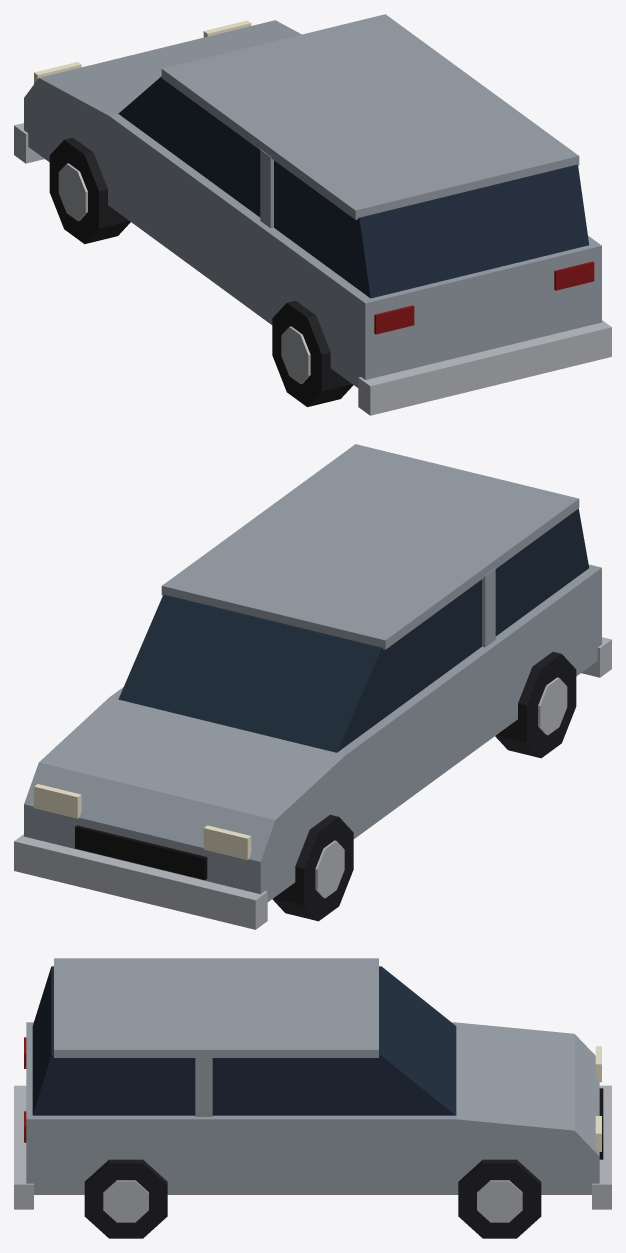
Rendered from CarWagonSilver.obj.
The picture shows the model from 3 angles, top to bottom: view 1: azimuth 30°, elevation 25°; view 2: azimuth 150°, elevation 25°; view 3: azimuth 270°, elevation 25°; orthographic projection. The views are drawn at different scales.
Visible parts, largest first — view 1: CarWagonSilver; view 2: CarWagonSilver; view 3: CarWagonSilver.
Boxes of the visible parts, box(x1,y1,x2,y2) form: CarWagonSilver: box(14, 14, 611, 415); CarWagonSilver: box(14, 444, 611, 929); CarWagonSilver: box(14, 958, 611, 1238).
Bounding box in the file's own units: 2.01 × 1.61 × 4.8.
Materials: 1 (1 with a texture image).
